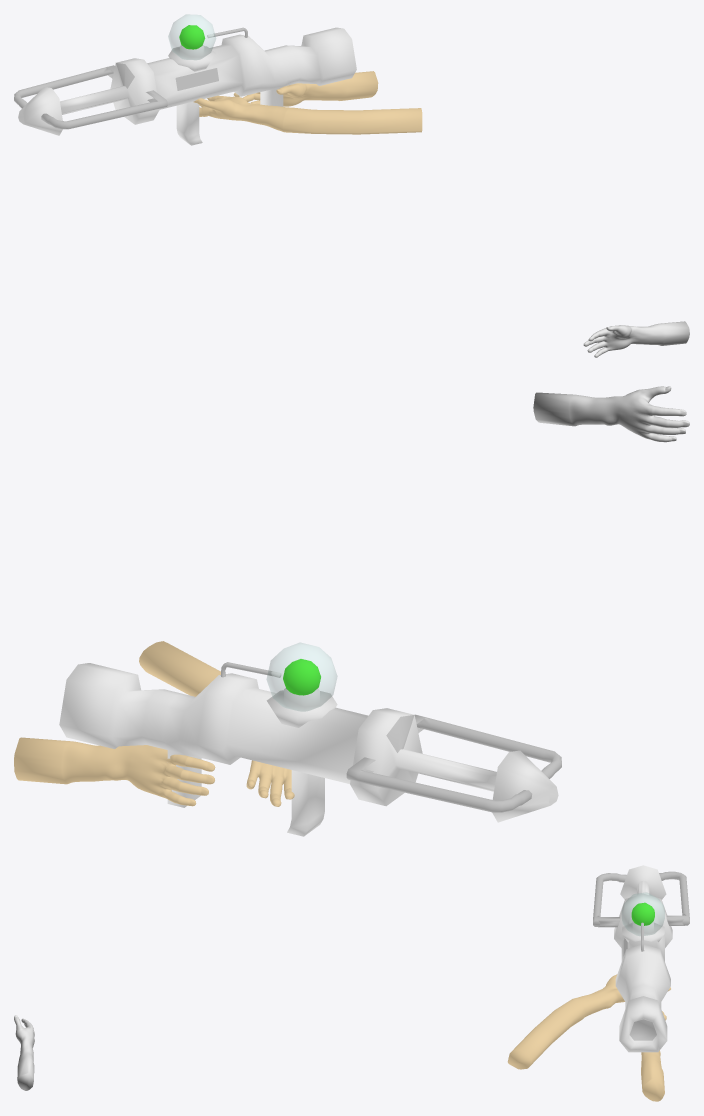
The model's file is wormholeGun.glb.
The picture shows the model from 3 angles, top to bottom: view 1: azimuth 30°, elevation 25°; view 2: azimuth 150°, elevation 25°; view 3: azimuth 270°, elevation 25°; orthographic projection. The views are drawn at different scales.
Parts seen in each view (by area): view 1: WormHoleGun, Hand.R.002, Hand.R.001, Hand.R; view 2: WormHoleGun, Hand.R, Hand.R.001, Hand.R.002; view 3: WormHoleGun, Hand.R.002, Hand.R.001, Hand.R.
Boxes of the visible parts, x1,y1,x2,y2 form: WormHoleGun: (14,14,356,145); Hand.R.002: (193,95,422,134); Hand.R.001: (583,321,689,357); Hand.R: (233,71,378,106); WormHoleGun: (59,642,561,836); Hand.R: (14,737,215,806); Hand.R.001: (533,386,689,442); Hand.R.002: (139,641,294,806); WormHoleGun: (593,865,689,1052); Hand.R.002: (507,974,670,1069); Hand.R.001: (14,1015,34,1090); Hand.R: (641,1011,666,1101).
Size of the model in its own units: 4.99 by 1.74 by 8.66.
